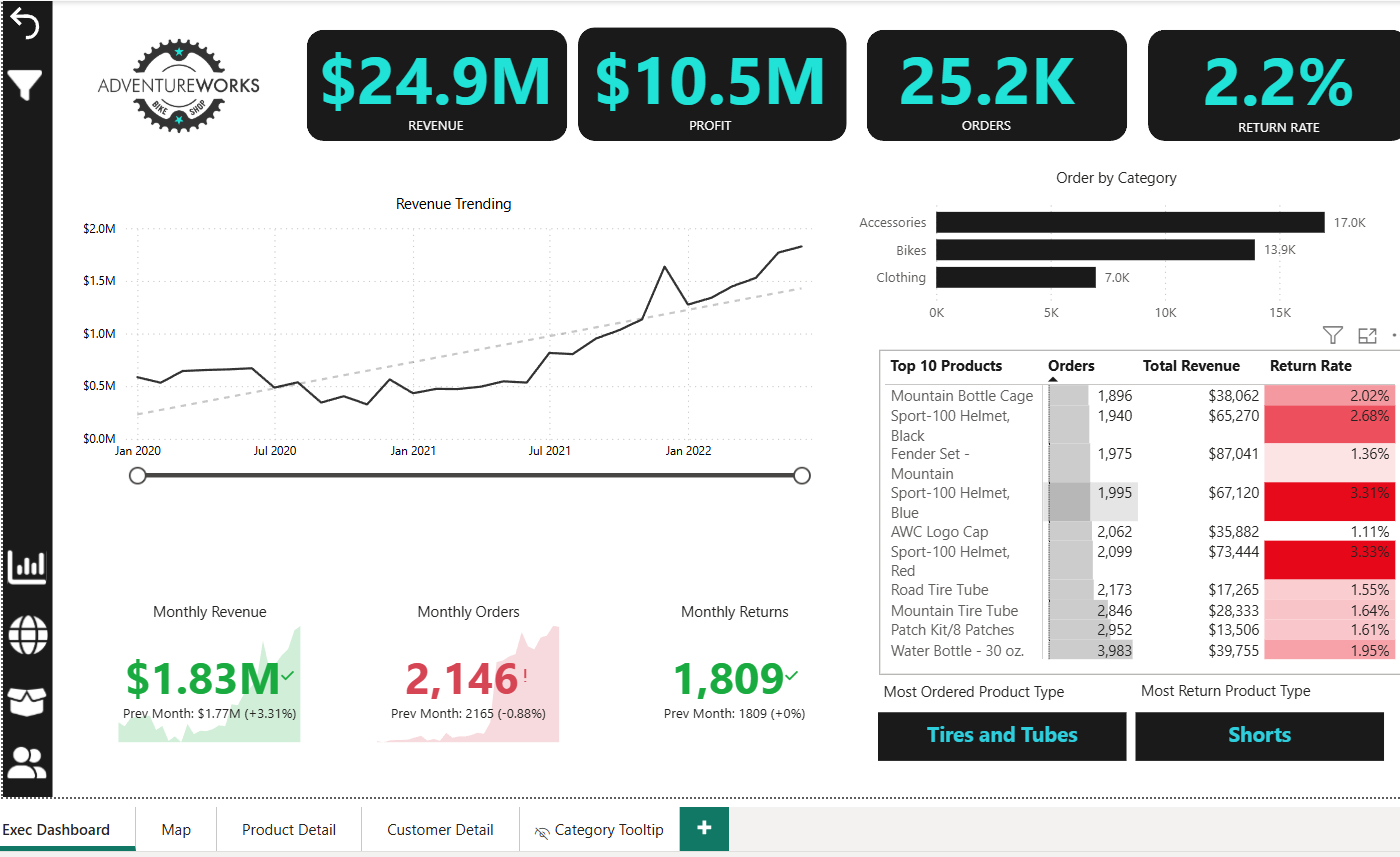

The page's visual inventory and layout, read from the dashboard file:
{"tool":"powerbi","page":{"name":"Exec Dashboard","canvas":[1280,720],"ordinal":0},"visuals":[{"type":"shape","box":[274.8,26,235.6,100.6],"z":0,"group":"g1"},{"type":"image","title":"AW logo","box":[24.9,26.7,268.7,99.7],"z":0},{"type":"shape","box":[1035.3,26,235.6,100.6],"z":1000,"group":"g1"},{"type":"actionButton","box":[0,612,53.9,43.6],"z":1000},{"type":"shape","title":"Left Nav Background","box":[0,0,45,720],"z":2000},{"type":"shape","box":[781.4,26,235.6,100.6],"z":2000,"group":"g1"},{"type":"shape","box":[520.4,23.7,243.1,102.9],"z":3000,"group":"g1"},{"type":"actionButton","box":[0,667.1,53.9,43.6],"z":3000},{"type":"group","id":"g1","title":"KPI Background","box":[274.8,23.7,996.1,102.9],"z":4000},{"type":"actionButton","box":[1.2,551.8,53.9,43.6],"z":5000},{"type":"card","fields":{"Values":["Measure Table.Total Revenue"]},"box":[265.7,0,252.1,150.4],"z":6000},{"type":"actionButton","box":[0,490.2,53.9,43.1],"z":7000},{"type":"lineChart","title":"Revenue Trending","fields":{"Y":["Measure Table.Total Revenue"],"Category":["Calendar Lookup.Date.Variation.Date Hierarchy.Year","Calendar Lookup.Date.Variation.Date Hierarchy.Month"]},"box":[67.1,173.8,681.9,266.1],"z":8000},{"type":"kpi","title":"Monthly Revenue","fields":{"Indicator":["Measure Table.Total Revenue"],"TrendLine":["Calendar Lookup.Start of Month"],"Goal":["Measure Table.Previous Month Revenue"]},"box":[99.5,542.9,175,133],"z":9000},{"type":"kpi","title":"Monthly Orders","fields":{"TrendLine":["Calendar Lookup.Start of Month"],"Indicator":["Measure Table.Total Order"],"Goal":["Measure Table.Previous Month Orders"]},"box":[333.2,542.9,175,133],"z":10000},{"type":"kpi","title":"Monthly Returns","fields":{"TrendLine":["Calendar Lookup.Start of Month"],"Indicator":["Measure Table.Total Returns"],"Goal":["Measure Table.Previous Month Returns"]},"box":[574.1,542.9,175,133],"z":11000},{"type":"clusteredBarChart","title":"Order by Category","fields":{"Category":["Product Categories Lookup.CategoryName"],"Y":["Measure Table.Total Order"]},"box":[763.9,150.4,485.6,149.2],"z":12000},{"type":"card","fields":{"Values":["Measure Table.Return Rate"]},"box":[1037.9,1.1,232.9,150.4],"z":13000},{"type":"card","fields":{"Values":["Measure Table.Total Order"]},"box":[773.4,0,232.9,150.4],"z":14000},{"type":"card","fields":{"Values":["Measure Table.Total Profit"]},"box":[516.7,0,246.5,150.4],"z":15000},{"type":"pivotTable","fields":{"Rows":["Product Lookup.ProductName"],"Values":["Measure Table.Total Order","Measure Table.Total Revenue","Measure Table.Return Rate"]},"box":[792.3,315,487.9,294.9],"z":16000},{"type":"card","fields":{"Values":["Min(Product Subcategories Lookup.SubcategoryName)"]},"box":[791.5,643.3,225,44.1],"z":17000},{"type":"textbox","box":[791.5,610.6,191.1,37.3],"z":18000},{"type":"card","fields":{"Values":["Min(Product Subcategories Lookup.SubcategoryName)"]},"box":[1024.4,643.3,225,44.1],"z":19000},{"type":"textbox","box":[1024.4,609.4,191.1,37.3],"z":20000},{"type":"actionButton","box":[0,0,45.5,39.6],"z":21000},{"type":"actionButton","box":[0,612.4,53.9,43.1],"z":22000},{"type":"actionButton","box":[0,56.3,45.5,39.6],"z":24000}]}

Visuals, with their boxes on the page's 1280x720 design canvas (x1, y1, x2, y2). These are canvas units, not pixel positions in the 1400x857 screenshot, which may show the page scaled, cropped or inside an application window:
shape: pyautogui.locateOnScreen(275, 26, 510, 127)
"AW logo" image: pyautogui.locateOnScreen(25, 27, 294, 126)
shape: pyautogui.locateOnScreen(1035, 26, 1271, 127)
actionButton: pyautogui.locateOnScreen(0, 612, 54, 656)
"Left Nav Background" shape: pyautogui.locateOnScreen(0, 0, 45, 720)
shape: pyautogui.locateOnScreen(781, 26, 1017, 127)
shape: pyautogui.locateOnScreen(520, 24, 764, 127)
actionButton: pyautogui.locateOnScreen(0, 667, 54, 711)
"KPI Background" group: pyautogui.locateOnScreen(275, 24, 1271, 127)
actionButton: pyautogui.locateOnScreen(1, 552, 55, 595)
card - Measure Table.Total Revenue: pyautogui.locateOnScreen(266, 0, 518, 150)
actionButton: pyautogui.locateOnScreen(0, 490, 54, 533)
"Revenue Trending" lineChart: pyautogui.locateOnScreen(67, 174, 749, 440)
"Monthly Revenue" kpi: pyautogui.locateOnScreen(100, 543, 274, 676)
"Monthly Orders" kpi: pyautogui.locateOnScreen(333, 543, 508, 676)
"Monthly Returns" kpi: pyautogui.locateOnScreen(574, 543, 749, 676)
"Order by Category" clusteredBarChart: pyautogui.locateOnScreen(764, 150, 1250, 300)
card - Measure Table.Return Rate: pyautogui.locateOnScreen(1038, 1, 1271, 152)
card - Measure Table.Total Order: pyautogui.locateOnScreen(773, 0, 1006, 150)
card - Measure Table.Total Profit: pyautogui.locateOnScreen(517, 0, 763, 150)
pivotTable - Product Lookup.ProductName x Measure Table.Total Order: pyautogui.locateOnScreen(792, 315, 1280, 610)
card - Min(Product Subcategories Lookup.SubcategoryName): pyautogui.locateOnScreen(792, 643, 1016, 687)
textbox: pyautogui.locateOnScreen(792, 611, 983, 648)
card - Min(Product Subcategories Lookup.SubcategoryName): pyautogui.locateOnScreen(1024, 643, 1249, 687)
textbox: pyautogui.locateOnScreen(1024, 609, 1216, 647)
actionButton: pyautogui.locateOnScreen(0, 0, 46, 40)
actionButton: pyautogui.locateOnScreen(0, 612, 54, 656)
actionButton: pyautogui.locateOnScreen(0, 56, 46, 96)
